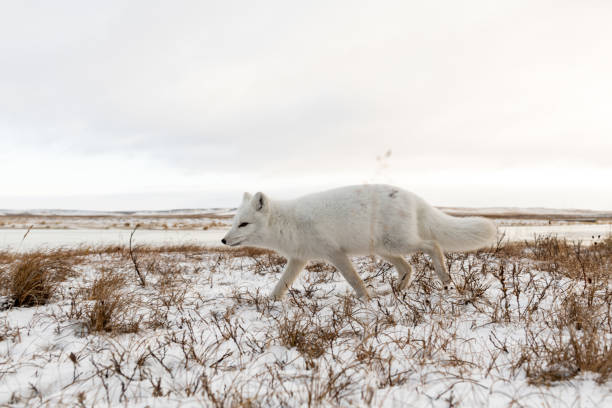arcticfox: (209, 194, 285, 264)
